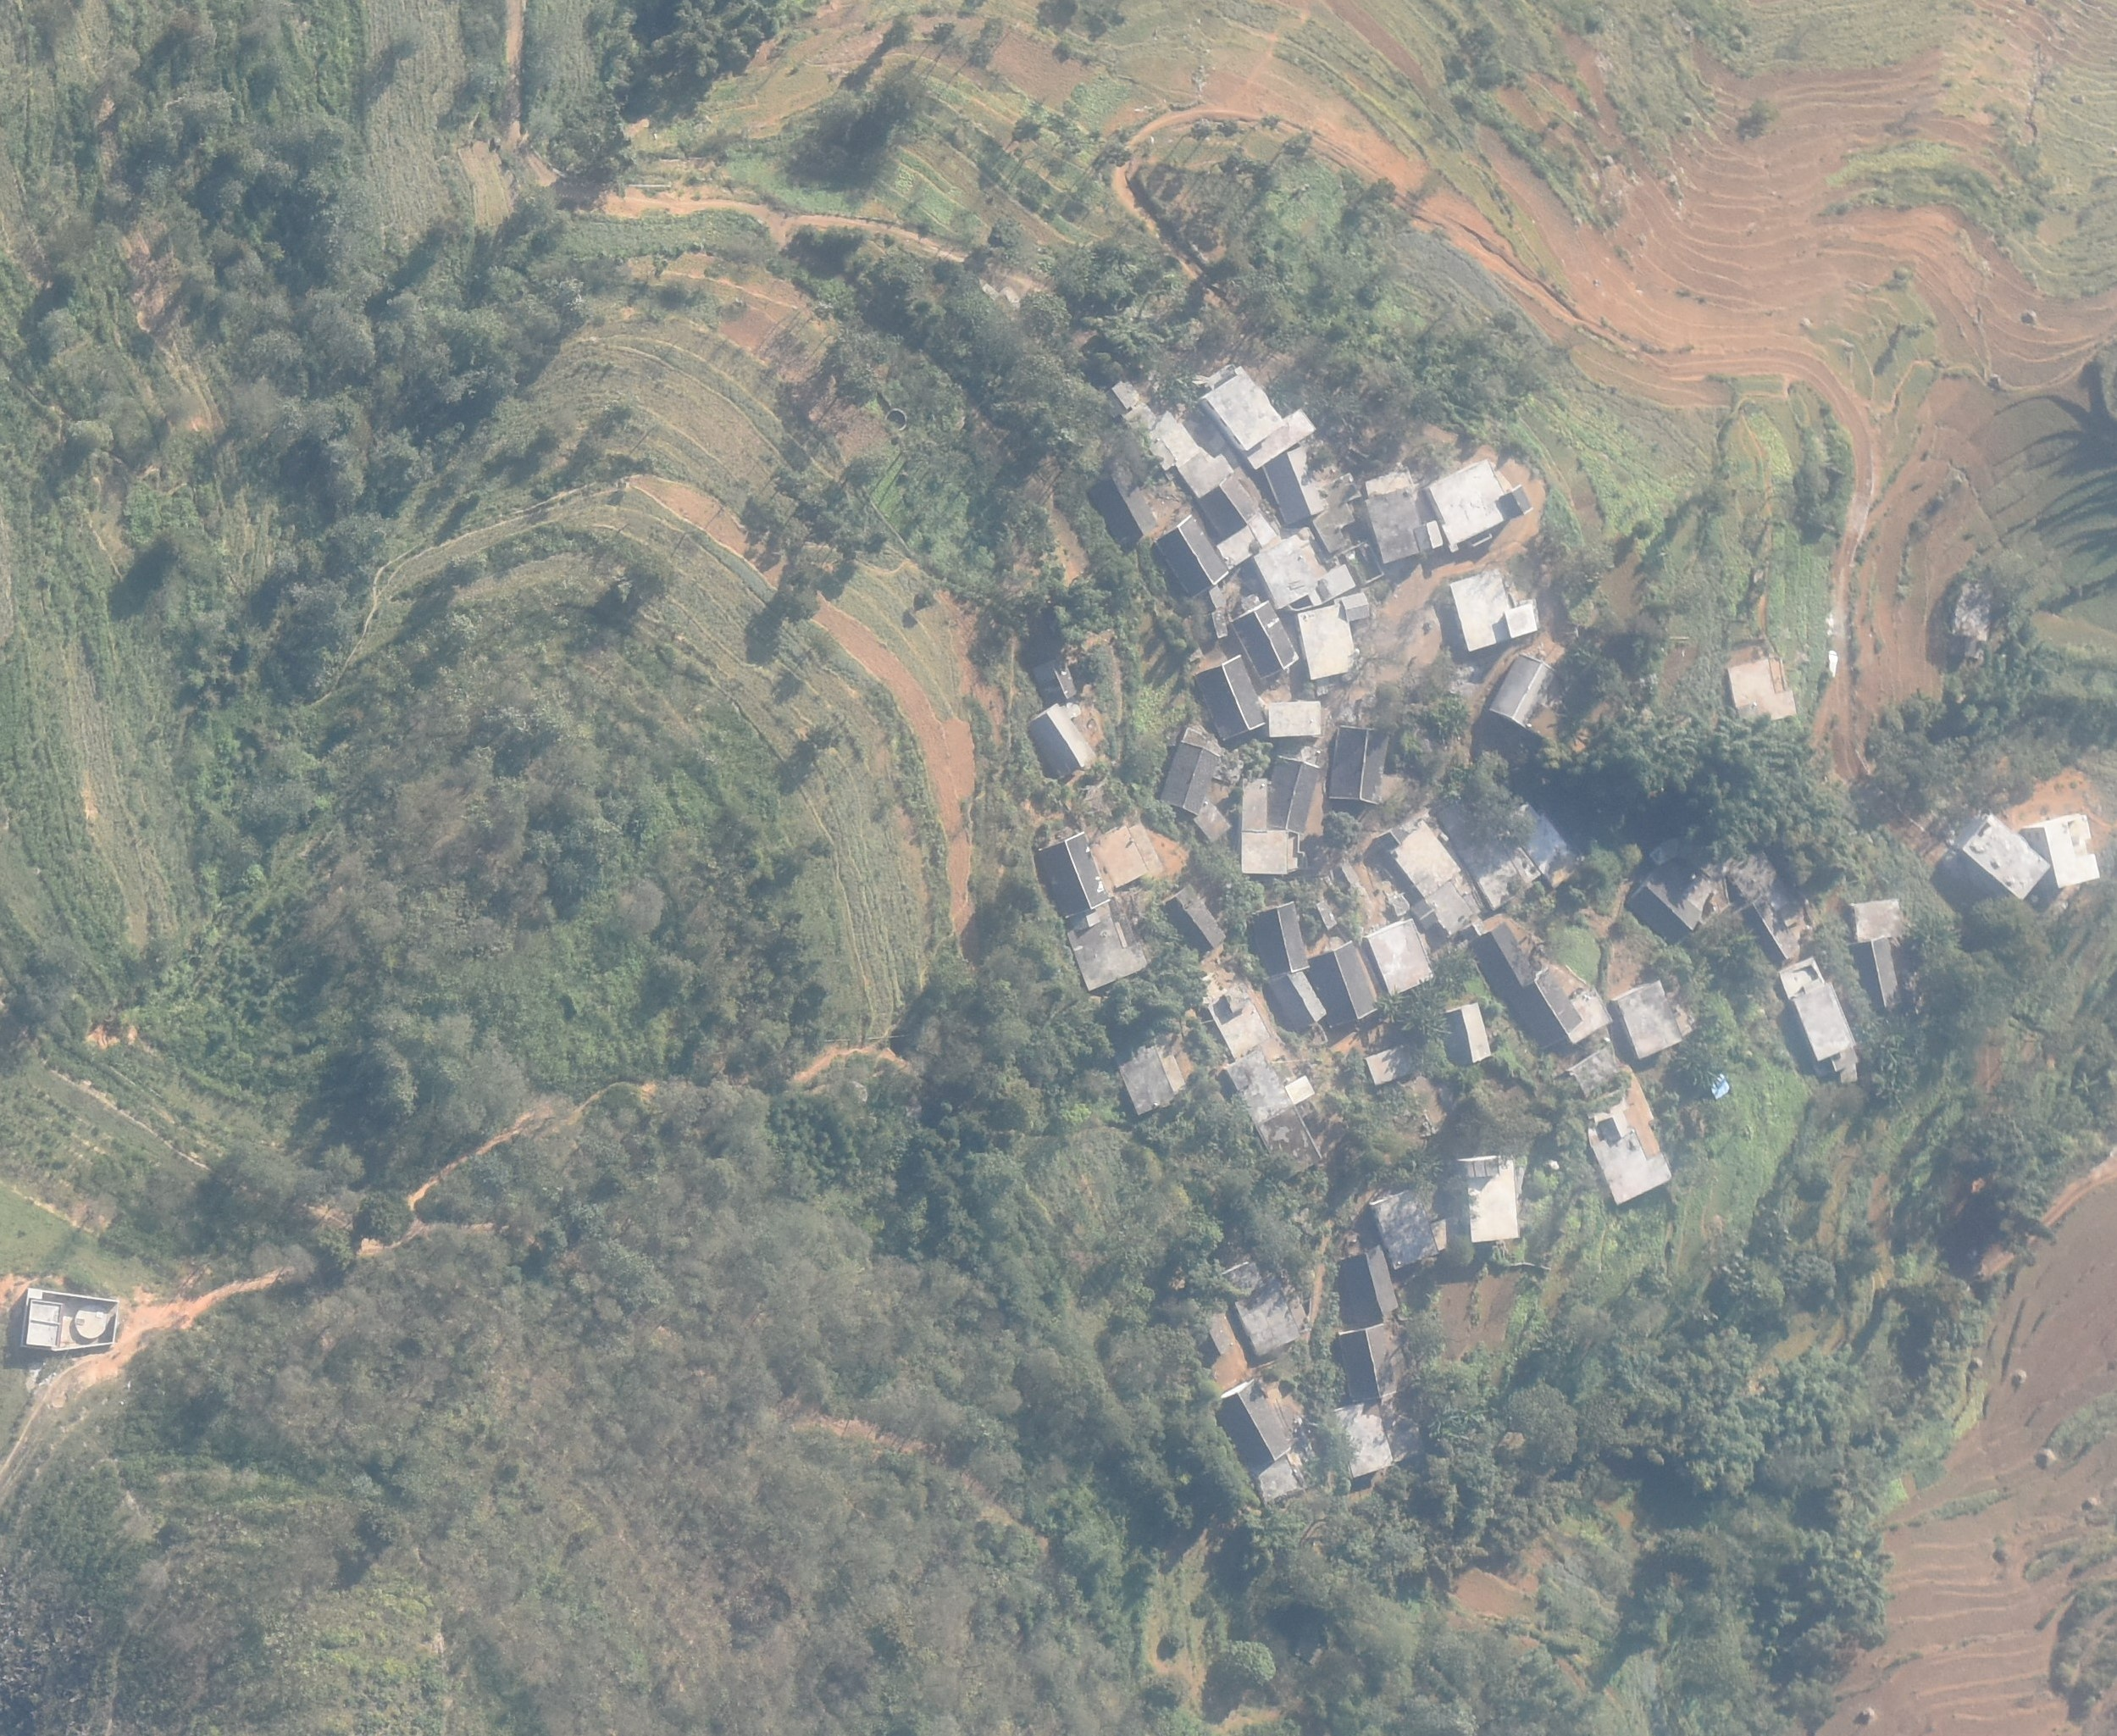building: (1227, 1048, 1324, 1175), (1203, 371, 1315, 471), (1438, 799, 1539, 908), (1779, 959, 1857, 1083), (1431, 461, 1533, 551), (1959, 811, 2050, 899), (1264, 438, 1361, 521), (1254, 533, 1356, 609), (1449, 568, 1537, 654), (1224, 1261, 1299, 1356), (1590, 1117, 1669, 1205), (1366, 475, 1444, 561), (1036, 832, 1109, 922), (1192, 653, 1266, 740), (1298, 593, 1370, 682), (1241, 777, 1306, 876), (1535, 960, 1612, 1041), (1069, 911, 1146, 992), (1152, 515, 1229, 596), (1220, 1379, 1294, 1463), (1380, 823, 1461, 899), (2022, 811, 2101, 886), (1514, 800, 1581, 888), (1113, 1025, 1178, 1115), (1489, 651, 1563, 726), (1310, 941, 1382, 1018), (1313, 503, 1384, 582), (1368, 918, 1437, 997), (1229, 600, 1298, 679), (1371, 1191, 1438, 1270), (1331, 1397, 1394, 1479), (1090, 471, 1159, 547), (1329, 726, 1393, 807), (1204, 988, 1271, 1064), (1470, 920, 1533, 999), (1458, 1156, 1516, 1242), (1626, 872, 1702, 937), (1618, 980, 1679, 1059), (1727, 656, 1797, 723), (1160, 886, 1227, 955), (1159, 740, 1222, 813), (1338, 1323, 1398, 1398), (1338, 1245, 1398, 1317), (1030, 705, 1094, 772), (1254, 901, 1310, 974), (1268, 755, 1319, 835), (1846, 932, 1901, 1008), (1737, 895, 1795, 964), (1948, 575, 1992, 658), (1094, 825, 1150, 888), (1269, 967, 1328, 1027), (1199, 473, 1255, 533), (1422, 879, 1473, 934), (1445, 1003, 1491, 1062), (1570, 1048, 1623, 1096), (1363, 1041, 1417, 1087), (1254, 1455, 1303, 1502), (1034, 654, 1080, 700), (1853, 901, 1902, 943), (1215, 524, 1261, 568), (1268, 702, 1322, 737), (1190, 799, 1233, 842), (1247, 512, 1278, 545), (1106, 380, 1138, 412), (25, 1321, 58, 1347), (1313, 897, 1336, 930), (1338, 853, 1357, 886), (28, 1303, 58, 1323), (1709, 1073, 1730, 1099)
well: (76, 1303, 107, 1338), (886, 408, 907, 431)
